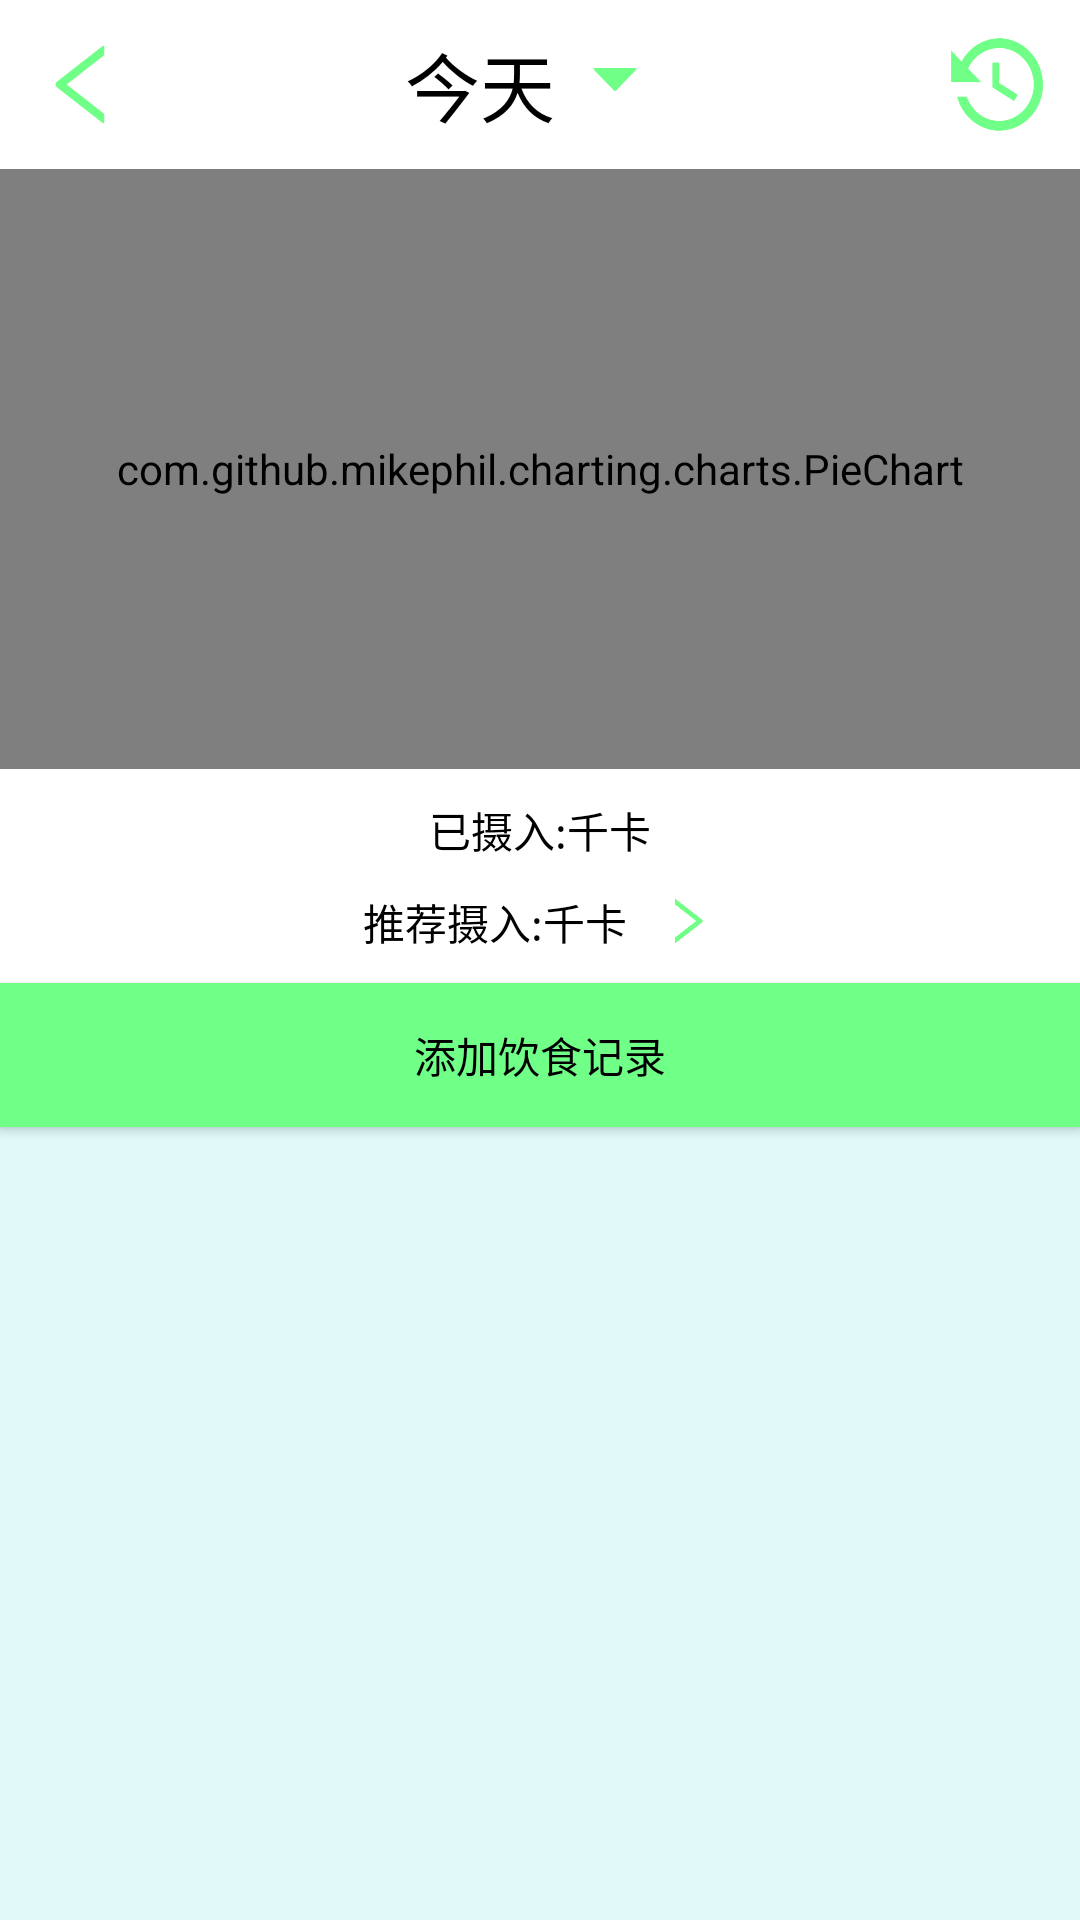

Where icons sit on this 1080 × 1920 app screen, as (x1, y1, x2, y2):
back left: (55, 45, 105, 124)
history: (951, 38, 1043, 131)
right: (675, 899, 703, 943)
triangle: (593, 68, 637, 91)
